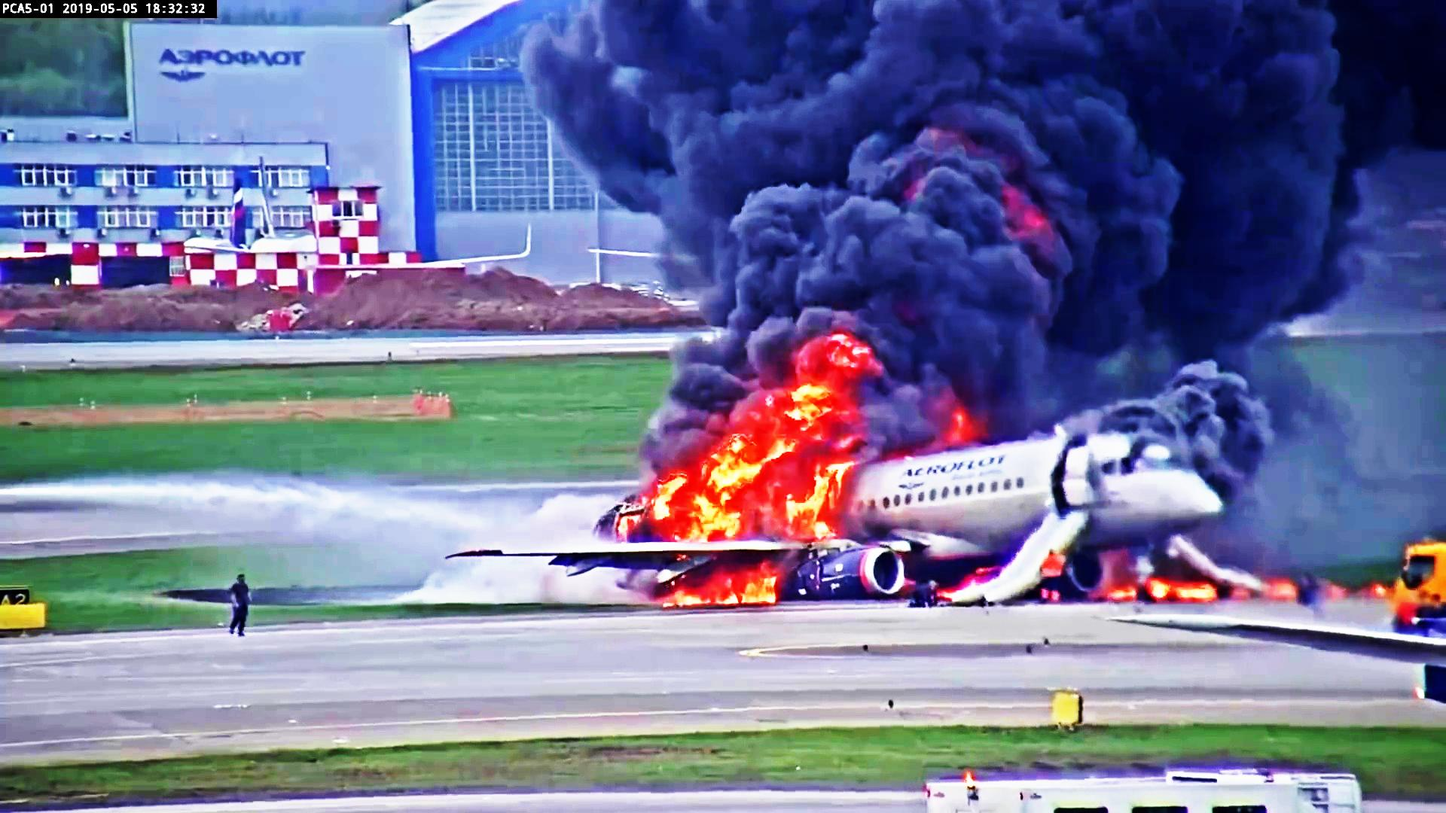fire: (745, 362, 861, 529), (659, 443, 757, 545), (682, 560, 781, 612)
smoke: (546, 6, 1391, 223), (715, 78, 1203, 347)
